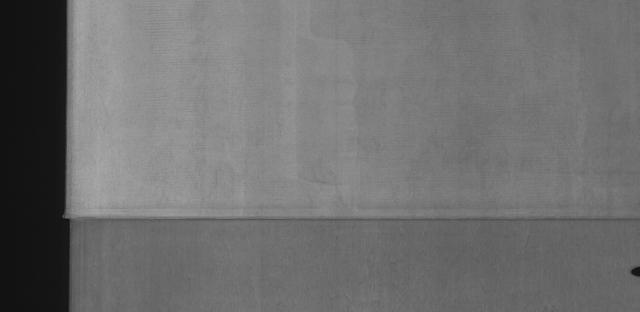punching_hole: (630, 262, 640, 279)
welding_line: (58, 206, 640, 234)
